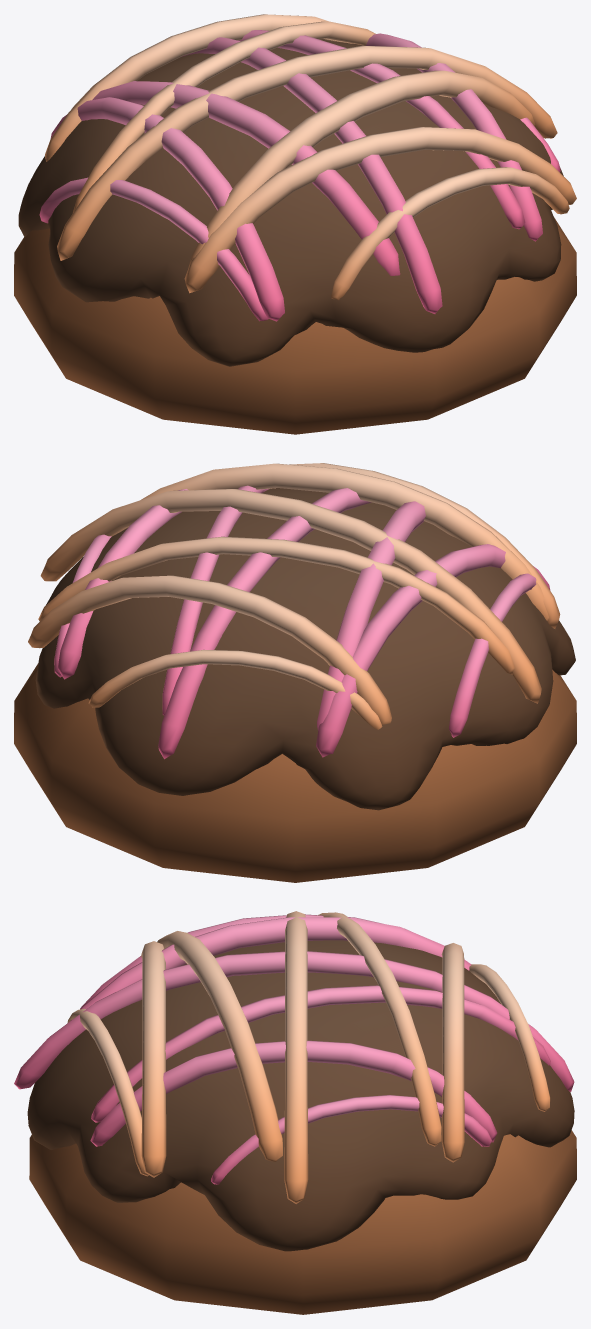
The model's file is candy_choco_20.fbx.
The picture shows the model from 3 angles, top to bottom: view 1: azimuth 30°, elevation 25°; view 2: azimuth 150°, elevation 25°; view 3: azimuth 270°, elevation 25°; orthographic projection. The views are drawn at different scales.
Parts seen in each view (by area): view 1: c_c_20; view 2: c_c_20; view 3: c_c_20.
Part boxes in pixels (bbox=[...]): c_c_20: bbox=[14, 14, 576, 434]; c_c_20: bbox=[14, 463, 576, 882]; c_c_20: bbox=[14, 911, 576, 1314].
Bounding box in the file's own units: 152 × 80.78 × 152.
